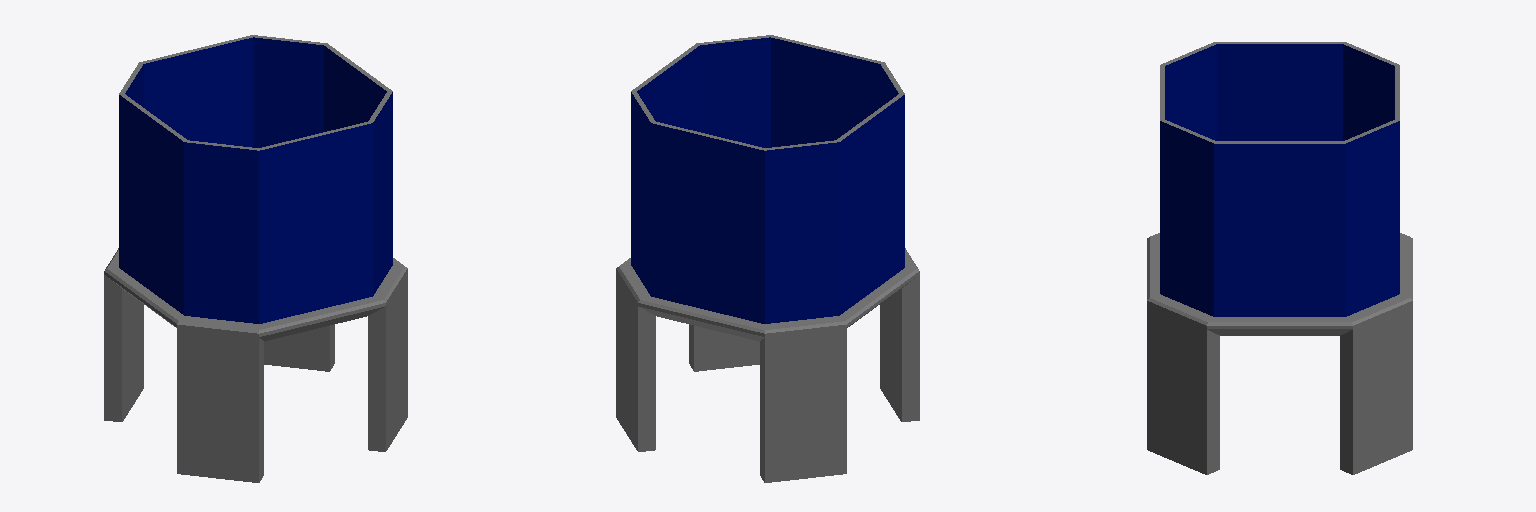
Rendered from GlessnerOBJs.obj.
3 renders of one model, left to right at view 1: azimuth 30°, elevation 25°; view 2: azimuth 150°, elevation 25°; view 3: azimuth 270°, elevation 25°, orthographic.
Visible parts, largest first — view 1: group5 pCube64; view 2: group5 pCube64; view 3: group5 pCube64.
Part boxes in pixels (bbox=[...]): group5 pCube64: bbox=[104, 35, 407, 482]; group5 pCube64: bbox=[616, 35, 919, 482]; group5 pCube64: bbox=[1147, 42, 1412, 474].
Size of the model in its own units: 2463 by 3334 by 2463.